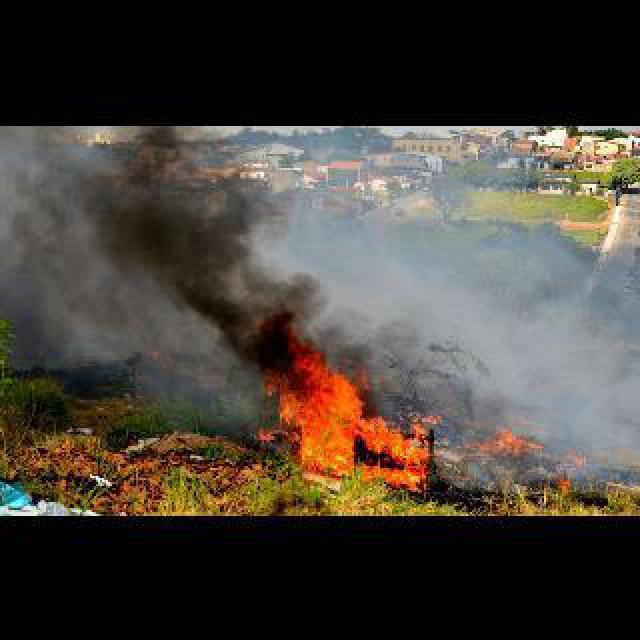fire: (254, 340, 444, 488), (474, 422, 548, 456), (418, 404, 448, 426), (554, 474, 572, 494), (560, 454, 592, 464)
smoke: (98, 124, 312, 392)
